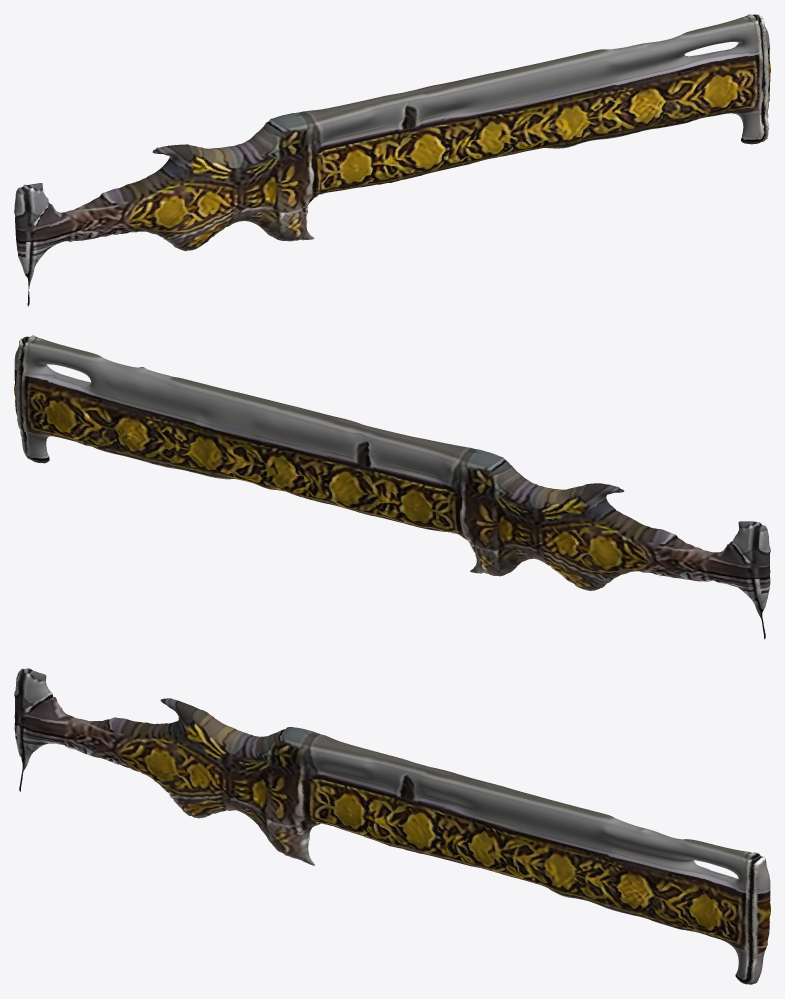
File: kfl-2175.glb
3 views of the same model, one above another, from view 1: azimuth 30°, elevation 25°; view 2: azimuth 150°, elevation 25°; view 3: azimuth 330°, elevation 25° (orthographic). The views are drawn at different scales.
Visible parts, largest first — view 1: kfl-2175; view 2: kfl-2175; view 3: kfl-2175.
Part boxes in pixels (bbox=[...]): kfl-2175: bbox=[14, 14, 770, 306]; kfl-2175: bbox=[14, 335, 770, 639]; kfl-2175: bbox=[14, 668, 770, 984].
Bounding box in the file's own units: 0.9886 × 0.1608 × 0.0699.
Materials: 1 (1 with a texture image).
